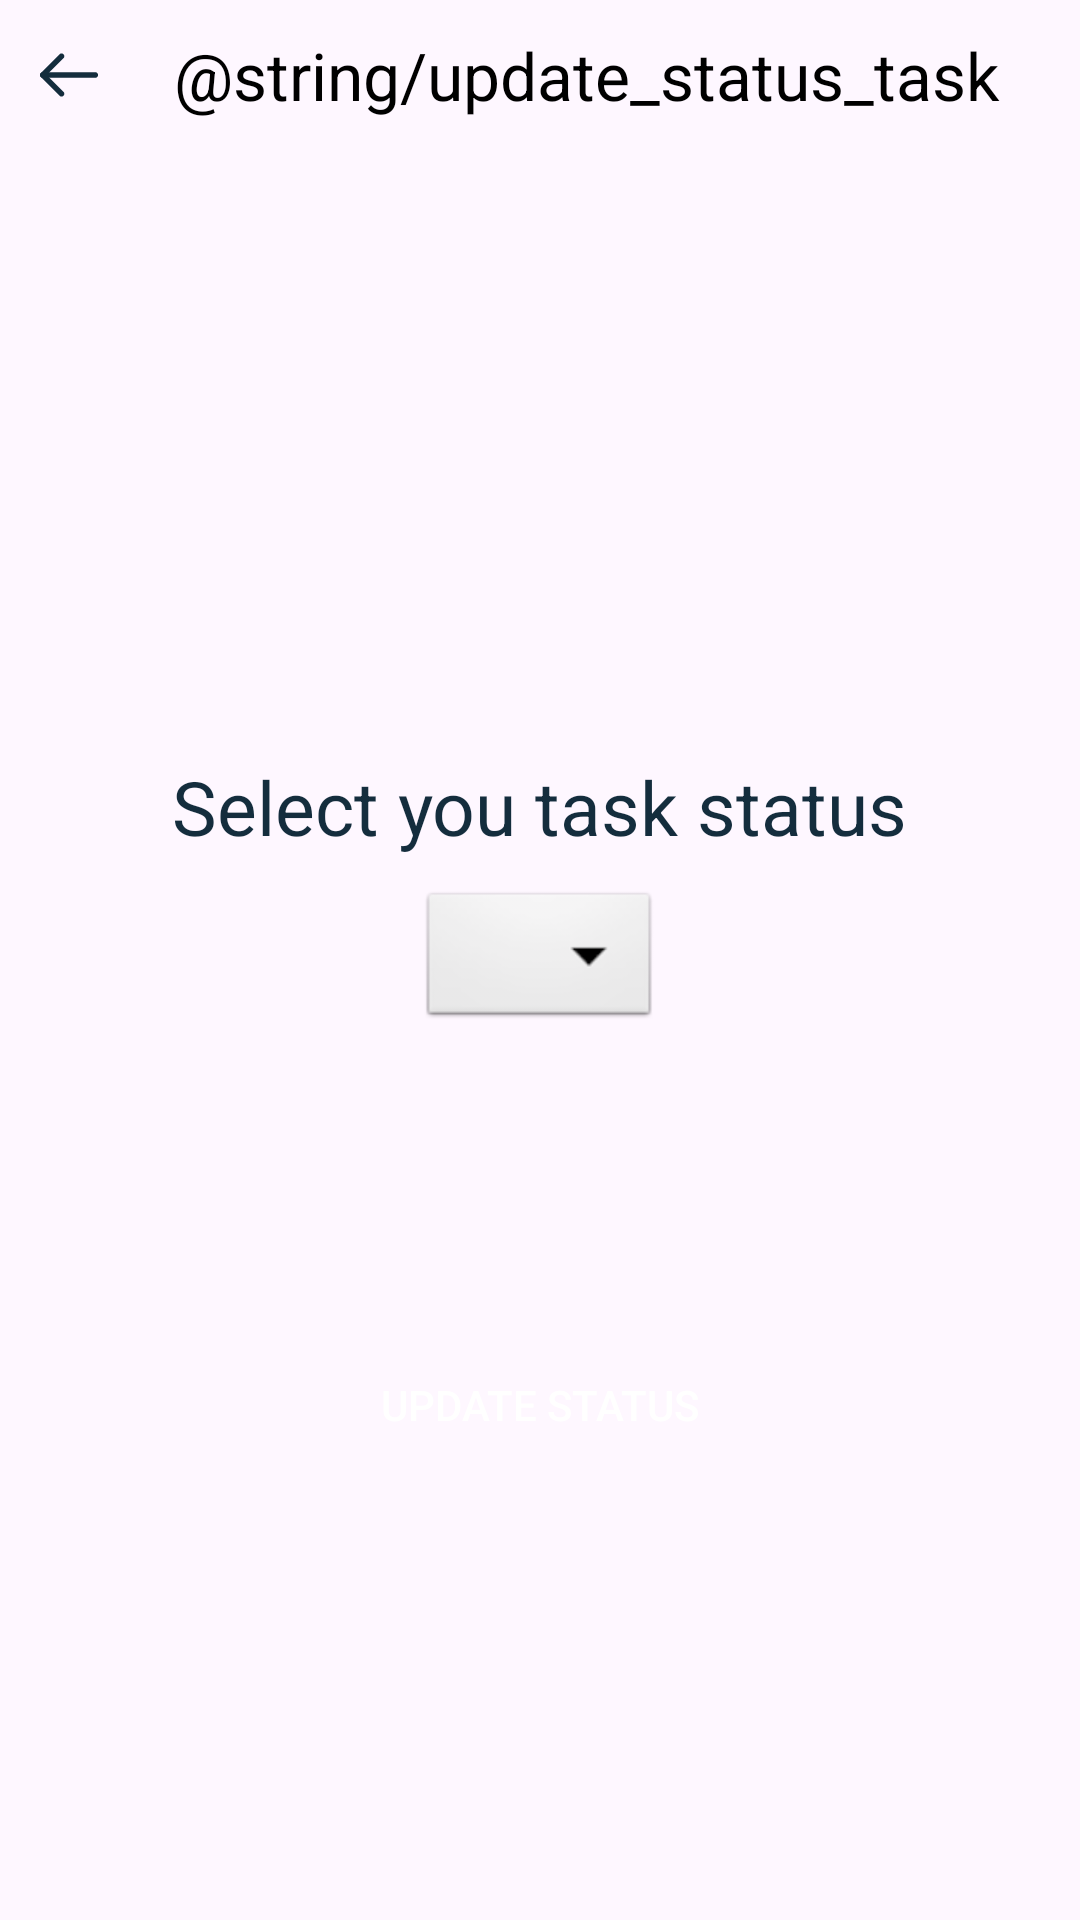

Screen size 1080 x 1920. Icon name, then its center in pixels as point (x, y):
back: point (69, 75)
